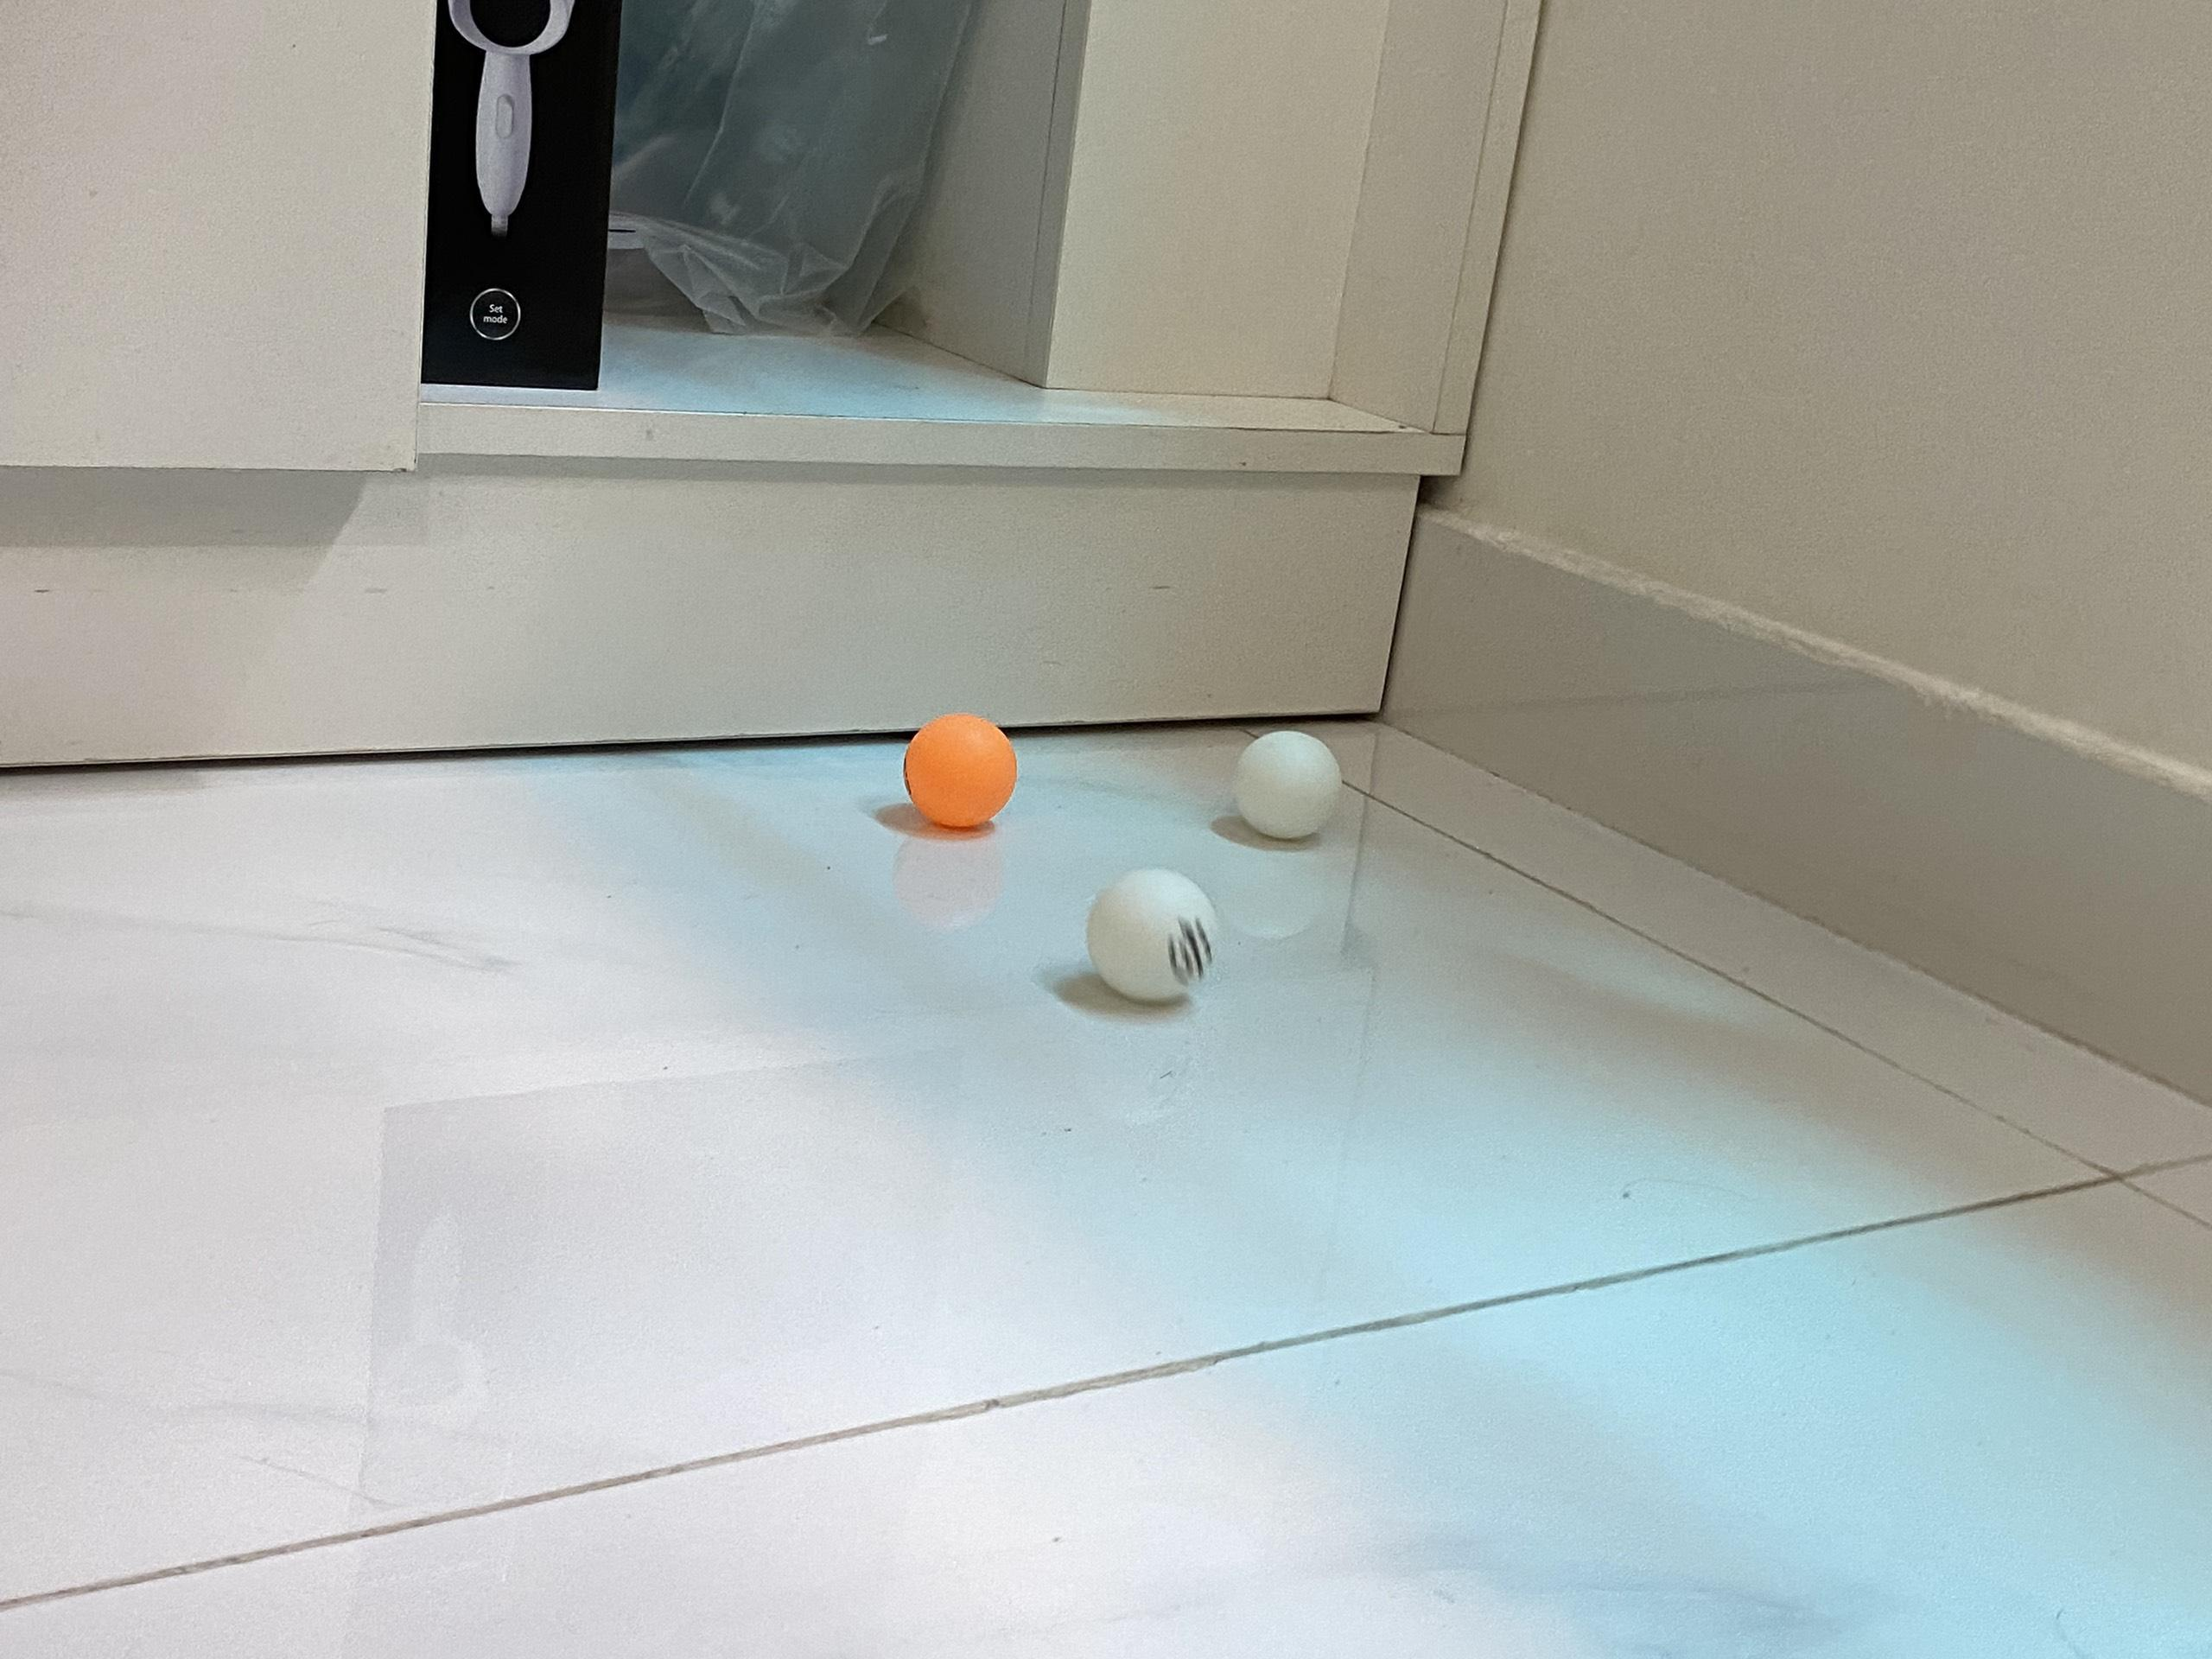oball: (1085, 864, 1223, 1009), (906, 709, 1019, 826), (1235, 728, 1346, 842)
